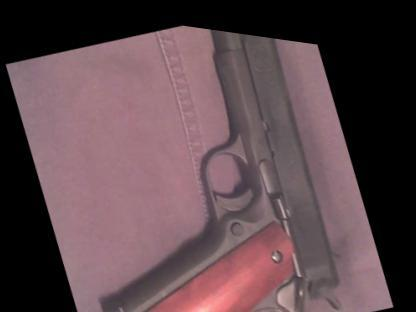pistol: (21, 3, 377, 311)
